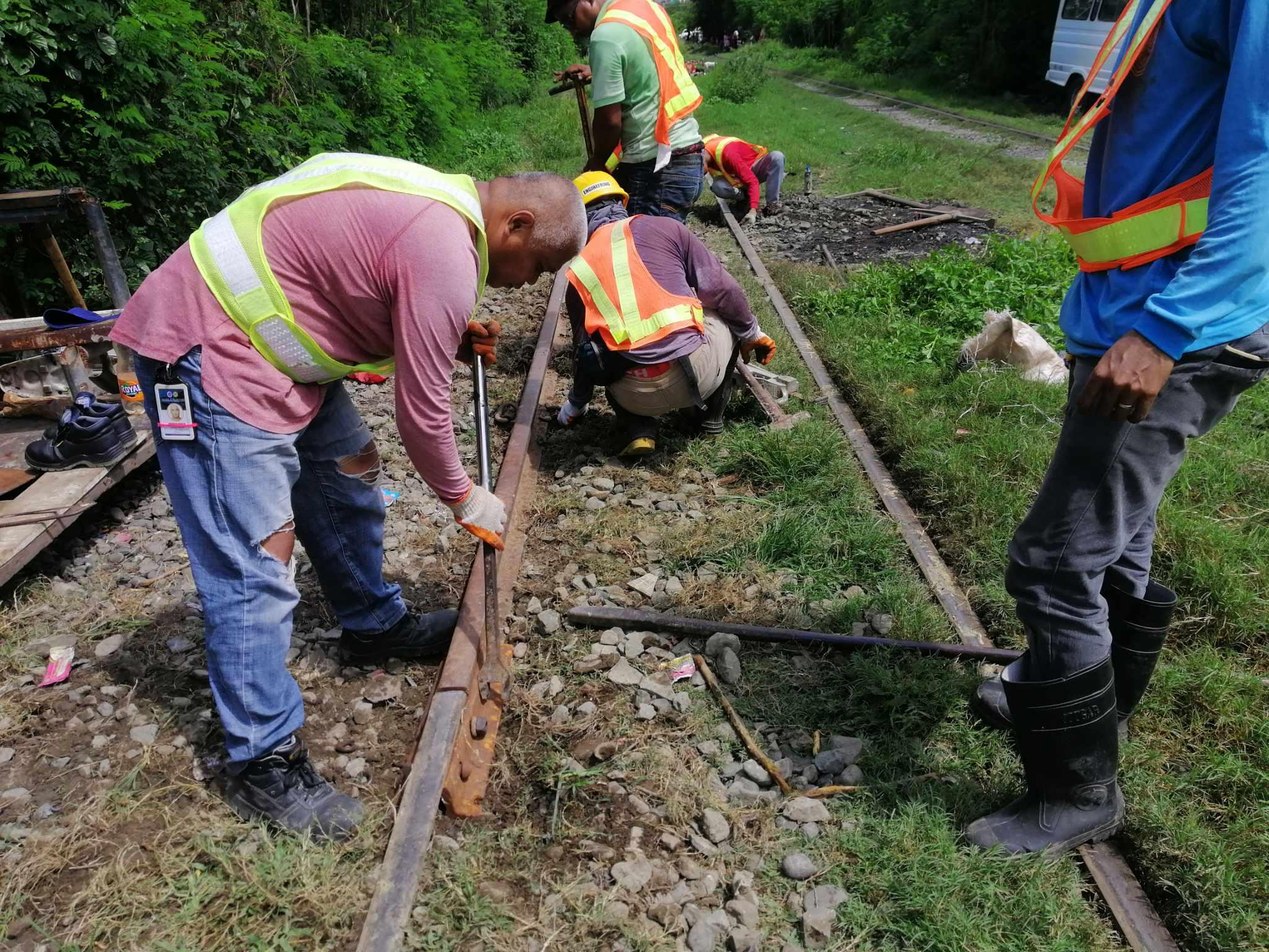railway-gap: (411, 655, 480, 720)
